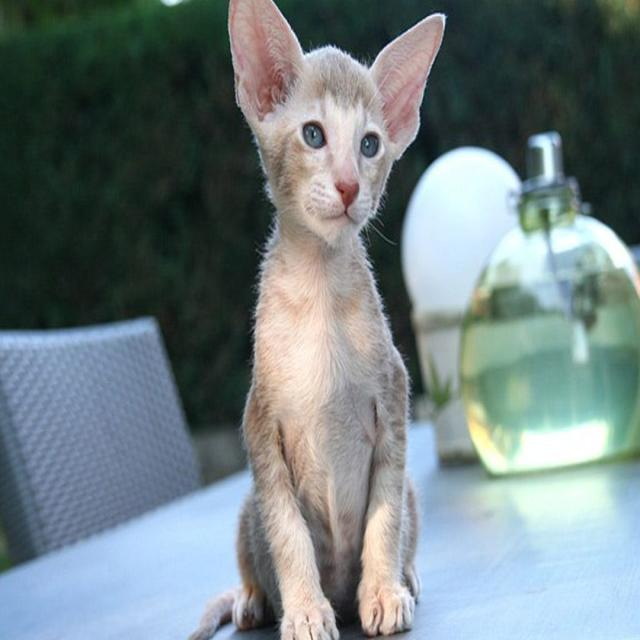Oriental: (181, 0, 450, 640)
